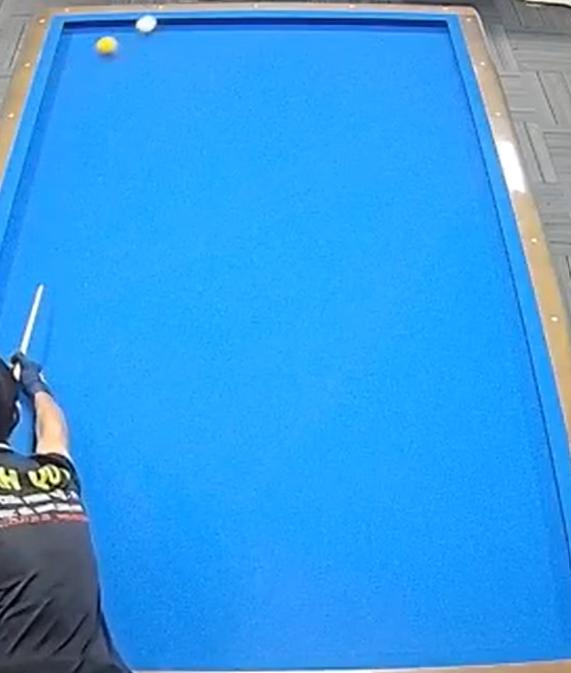white ball: (131, 11, 160, 41)
yellow ball: (91, 31, 124, 66)
